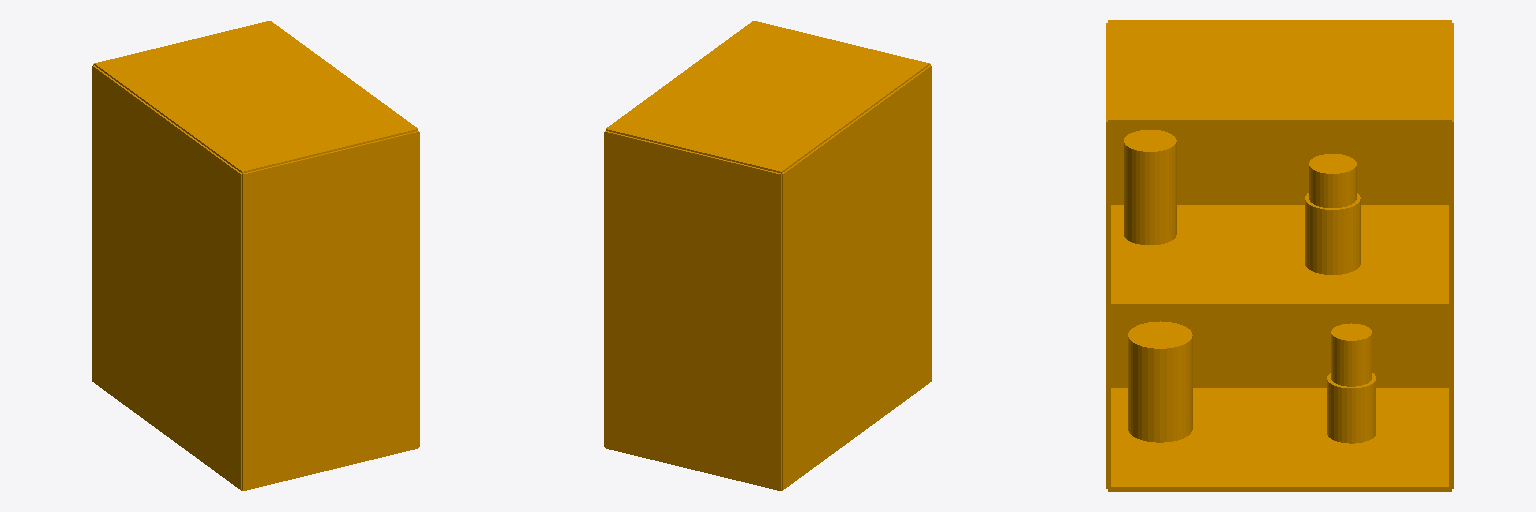
robot.urdf — syn_can_cabinet_2007:
<?xml version="1.0" ?>
<robot name="syn_can_cabinet_2007">
    <link concave="yes" name="base_link">
        <inertial>
            <origin rpy="0 0 0" xyz="0 0 0"/>
            <mass value="0.0"/>
            <inertia ixx="1e-08" ixy="0" ixz="0" iyy="1e-08" iyz="0" izz="1e-08"/>
        </inertial>
        <visual>
            <origin xyz="0 0 0" rpy="0 0 0" />
            <geometry>
                <mesh filename="syn_can_cabinet_2007.obj" scale="1.000000 1.000000 1.000000"/>
            </geometry>         
        </visual>

        <collision concave="yes">
            <origin xyz="0 0 0" rpy="0 0 0"/>
            <geometry>
                <mesh filename="syn_can_cabinet_2007.obj" scale="1.000000 1.000000 1.000000"/>
            </geometry>
        </collision>
    </link>
</robot>
    

--- What the picture shows (computed from the rendered views, not written in the file) ---
3 views of the same robot in one strip: view 1: azimuth 30°, elevation 25°; view 2: azimuth 150°, elevation 25°; view 3: azimuth 270°, elevation 25° (orthographic).
Robot: syn_can_cabinet_2007 — 1 links, 0 joints (none); root link base_link; default pose: every joint at zero.
Links seen in each view (by area): view 1: base_link; view 2: base_link; view 3: base_link.
Boxes of the visible links, left/top/right/bottom form: base_link: left=92, top=21, right=419, bottom=490; base_link: left=604, top=21, right=931, bottom=490; base_link: left=1106, top=20, right=1453, bottom=491.
Bounding box of the posed robot: 0.221 × 0.3232 × 0.3795 m (x, y, z).
Meshes: 1 distinct files referenced, 1 mesh visuals loaded (1 OBJ).
